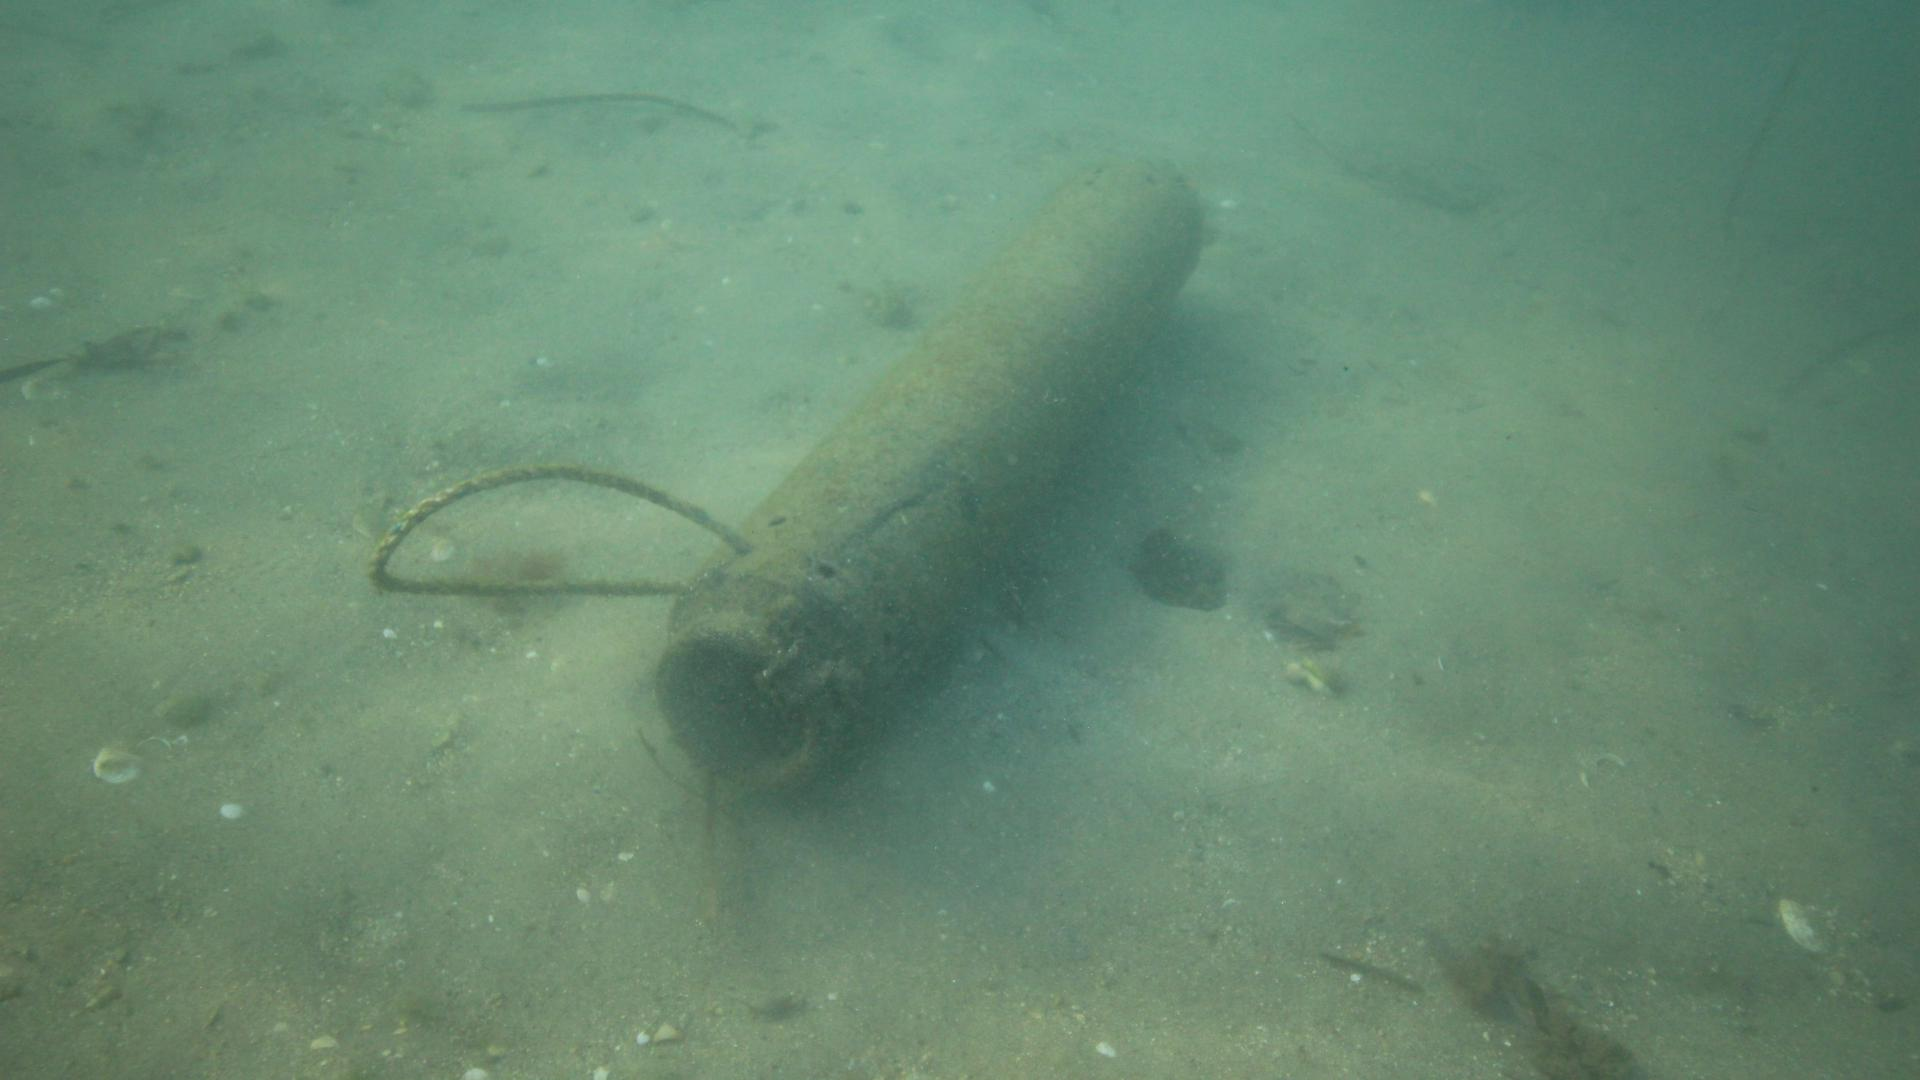eel fish trap: (651, 160, 1205, 793)
rope: (365, 460, 753, 600)
